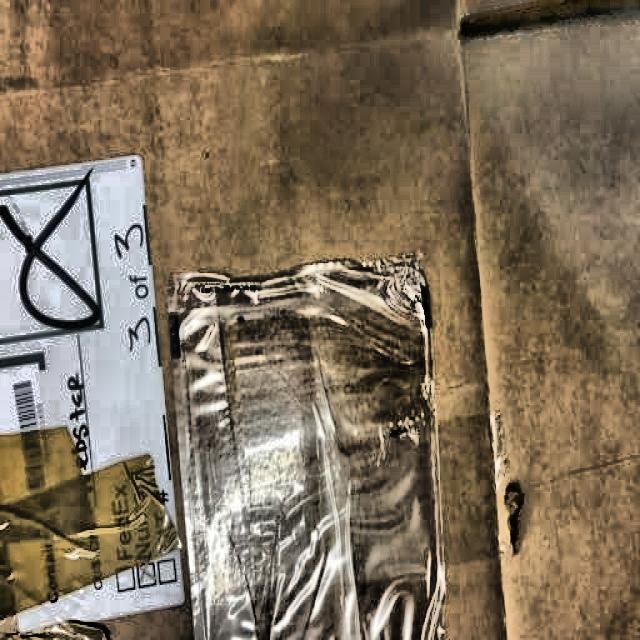cardboard: (165, 252, 448, 638), (0, 152, 196, 638)
